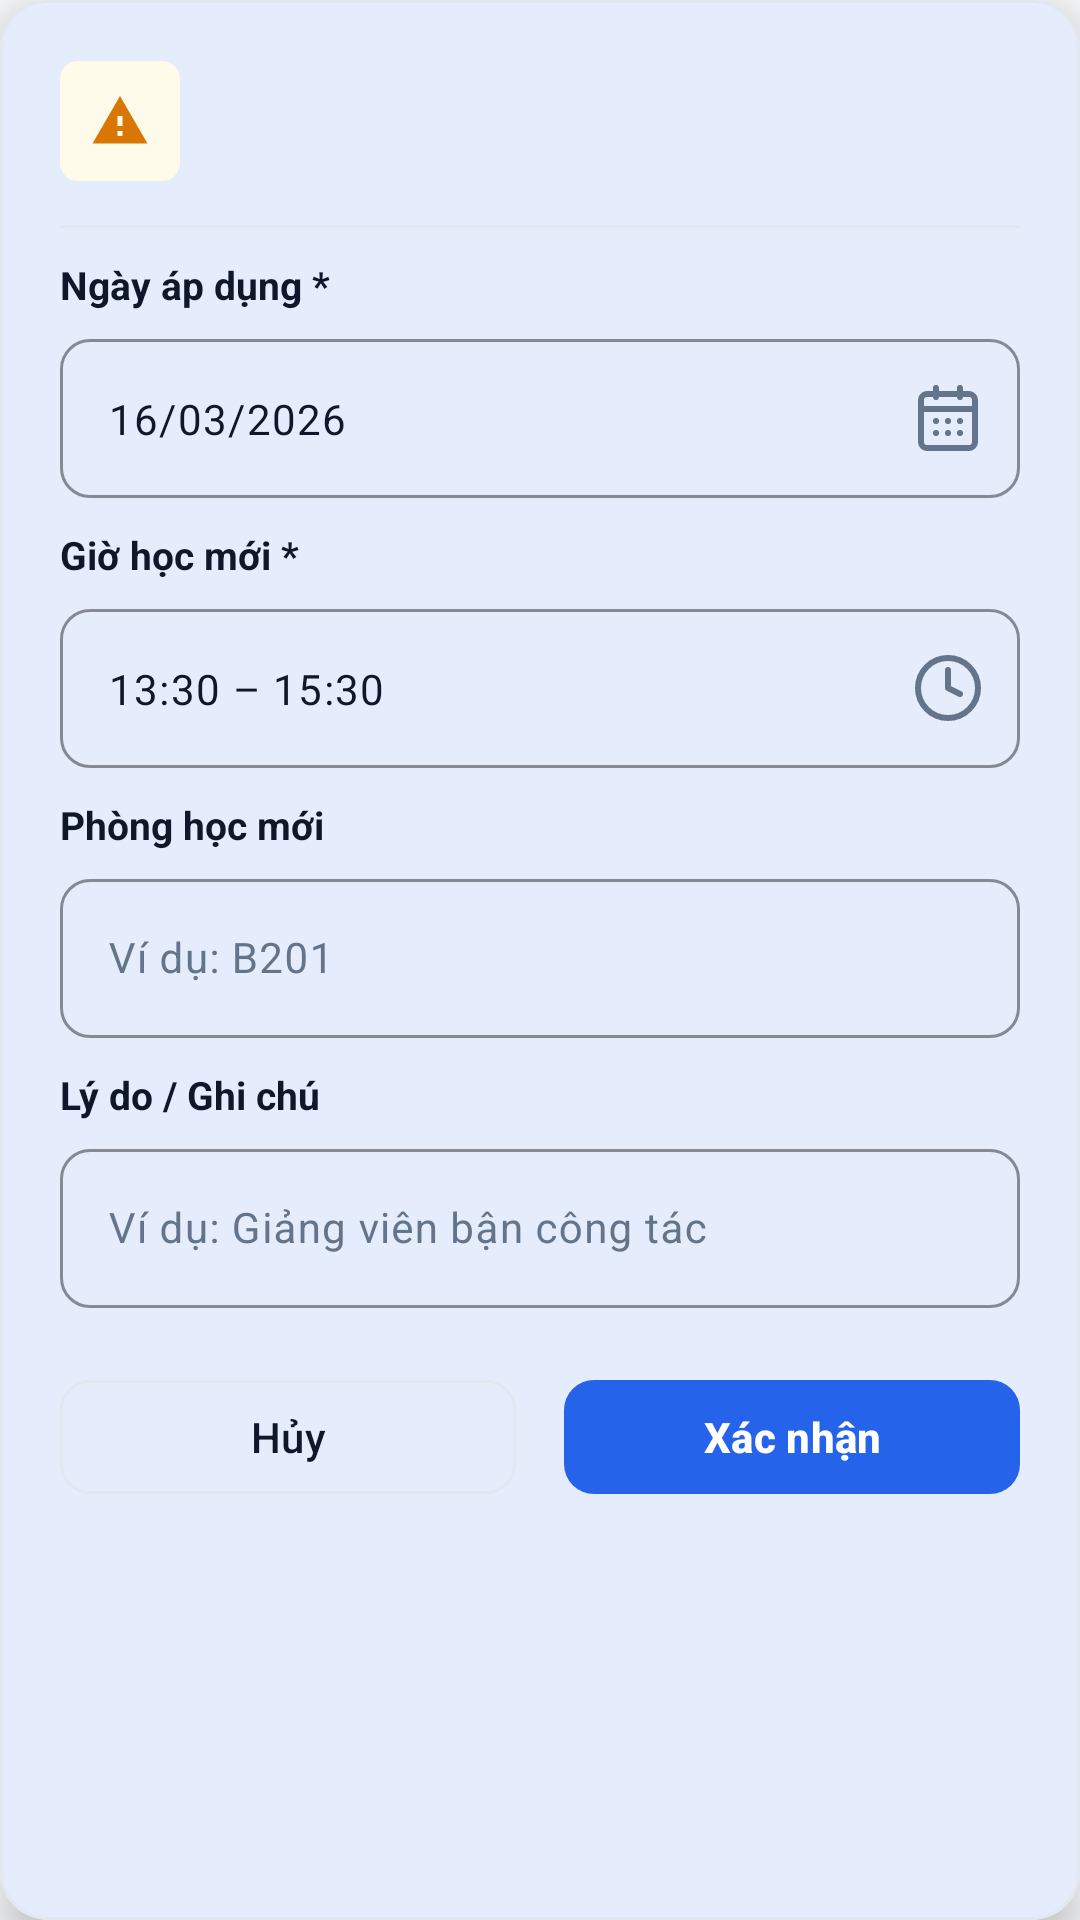

Where to tap for icons on this 1080px x 1920px app screen, as (x=x, y=y):
warning: (x=120, y=120)
